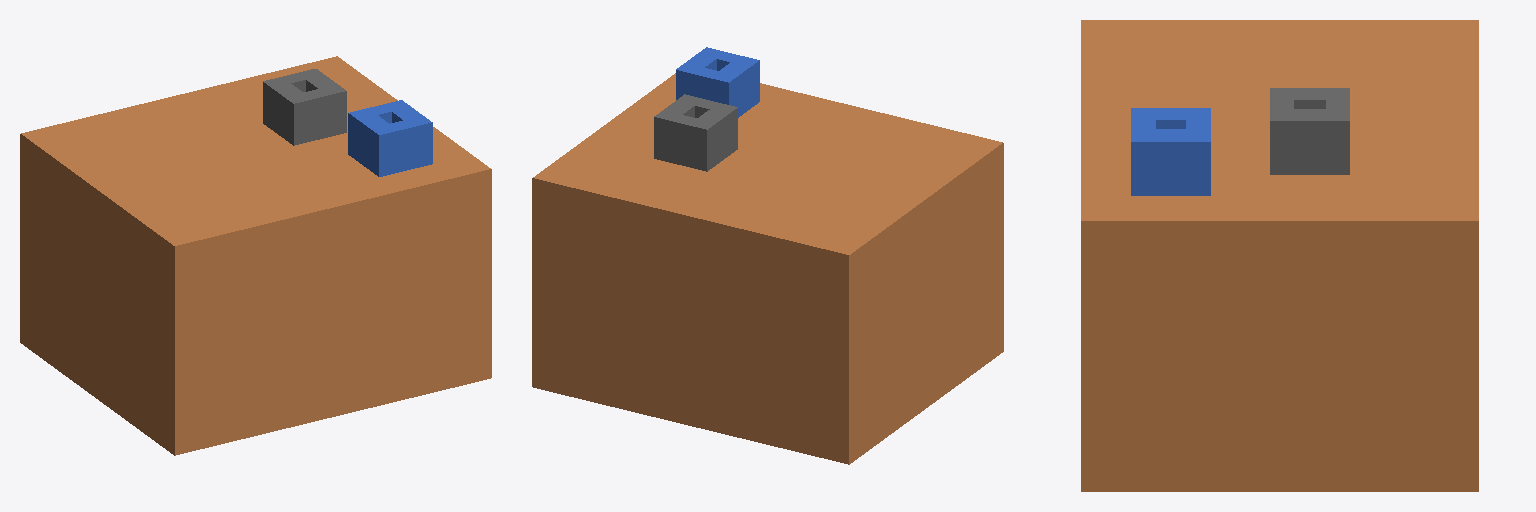
robot.urdf — peg_in_hole_fixtured_scene_0017_peg0012_tol02:
<?xml version="1.0"?>
<robot name="peg_in_hole_fixtured_scene_0017_peg0012_tol02">
  <material name="wood"><color rgba="0.82 0.56 0.35 1.0"/></material>
  <material name="start_fix"><color rgba="0.30 0.50 0.85 1.0"/></material>
  <material name="goal_fix"><color rgba="0.4706 0.4706 0.4706 1.0"/></material>
  <link name="box">
    <visual>
      <origin xyz="0.000000 0.000000 0.000000" rpy="0 0 0"/>
      <geometry><box size="0.475000 0.400000 0.300000"/></geometry>
      <material name="wood"/>
    </visual>
    <collision>
      <origin xyz="0.000000 0.000000 0.000000" rpy="0 0 0"/>
      <geometry><box size="0.475000 0.400000 0.300000"/></geometry>
    </collision>
    <visual>
      <origin xyz="0.138511 -0.109345 0.155000" rpy="0 0 0"/>
      <geometry><box size="0.080000 0.080000 0.010000"/></geometry>
      <material name="start_fix"/>
    </visual>
    <collision>
      <origin xyz="0.138511 -0.109345 0.155000" rpy="0 0 0"/>
      <geometry><box size="0.080000 0.080000 0.010000"/></geometry>
    </collision>
    <visual>
      <origin xyz="0.163761 -0.109345 0.185000" rpy="0 0 0"/>
      <geometry><box size="0.029500 0.080000 0.050000"/></geometry>
      <material name="start_fix"/>
    </visual>
    <collision>
      <origin xyz="0.163761 -0.109345 0.185000" rpy="0 0 0"/>
      <geometry><box size="0.029500 0.080000 0.050000"/></geometry>
    </collision>
    <visual>
      <origin xyz="0.113261 -0.109345 0.185000" rpy="0 0 0"/>
      <geometry><box size="0.029500 0.080000 0.050000"/></geometry>
      <material name="start_fix"/>
    </visual>
    <collision>
      <origin xyz="0.113261 -0.109345 0.185000" rpy="0 0 0"/>
      <geometry><box size="0.029500 0.080000 0.050000"/></geometry>
    </collision>
    <visual>
      <origin xyz="0.138511 -0.081595 0.185000" rpy="0 0 0"/>
      <geometry><box size="0.021000 0.024500 0.050000"/></geometry>
      <material name="start_fix"/>
    </visual>
    <collision>
      <origin xyz="0.138511 -0.081595 0.185000" rpy="0 0 0"/>
      <geometry><box size="0.021000 0.024500 0.050000"/></geometry>
    </collision>
    <visual>
      <origin xyz="0.138511 -0.137095 0.185000" rpy="0 0 0"/>
      <geometry><box size="0.021000 0.024500 0.050000"/></geometry>
      <material name="start_fix"/>
    </visual>
    <collision>
      <origin xyz="0.138511 -0.137095 0.185000" rpy="0 0 0"/>
      <geometry><box size="0.021000 0.024500 0.050000"/></geometry>
    </collision>
    <visual>
      <origin xyz="0.090509 0.030006 0.155000" rpy="0 0 0"/>
      <geometry><box size="0.080000 0.080000 0.010000"/></geometry>
      <material name="goal_fix"/>
    </visual>
    <collision>
      <origin xyz="0.090509 0.030006 0.155000" rpy="0 0 0"/>
      <geometry><box size="0.080000 0.080000 0.010000"/></geometry>
    </collision>
    <visual>
      <origin xyz="0.116114 0.030006 0.185000" rpy="0 0 0"/>
      <geometry><box size="0.028790 0.080000 0.050000"/></geometry>
      <material name="goal_fix"/>
    </visual>
    <collision>
      <origin xyz="0.116114 0.030006 0.185000" rpy="0 0 0"/>
      <geometry><box size="0.028790 0.080000 0.050000"/></geometry>
    </collision>
    <visual>
      <origin xyz="0.064904 0.030006 0.185000" rpy="0 0 0"/>
      <geometry><box size="0.028790 0.080000 0.050000"/></geometry>
      <material name="goal_fix"/>
    </visual>
    <collision>
      <origin xyz="0.064904 0.030006 0.185000" rpy="0 0 0"/>
      <geometry><box size="0.028790 0.080000 0.050000"/></geometry>
    </collision>
    <visual>
      <origin xyz="0.090509 0.058111 0.185000" rpy="0 0 0"/>
      <geometry><box size="0.022421 0.023790 0.050000"/></geometry>
      <material name="goal_fix"/>
    </visual>
    <collision>
      <origin xyz="0.090509 0.058111 0.185000" rpy="0 0 0"/>
      <geometry><box size="0.022421 0.023790 0.050000"/></geometry>
    </collision>
    <visual>
      <origin xyz="0.090509 0.001900 0.185000" rpy="0 0 0"/>
      <geometry><box size="0.022421 0.023790 0.050000"/></geometry>
      <material name="goal_fix"/>
    </visual>
    <collision>
      <origin xyz="0.090509 0.001900 0.185000" rpy="0 0 0"/>
      <geometry><box size="0.022421 0.023790 0.050000"/></geometry>
    </collision>
    <inertial>
      <mass value="500"/>
      <friction value="1.0"/>
      <inertia ixx="1000.0" ixy="0.0" ixz="0.0" iyy="1000.0" iyz="0.0" izz="1000.0"/>
    </inertial>
  </link>
</robot>

--- Render facts (derived) ---
The picture shows the robot from 3 angles, left to right: view 1: azimuth 30°, elevation 25°; view 2: azimuth 150°, elevation 25°; view 3: azimuth 270°, elevation 25°; orthographic projection.
Model peg_in_hole_fixtured_scene_0017_peg0012_tol02 with 1 links and 0 joints (none), rooted at box, posed every joint at zero.
Links seen in each view (by area): view 1: box; view 2: box; view 3: box.
Boxes of the visible links, x1=… form: box: x1=20, y1=56, x2=491, y2=455; box: x1=532, y1=47, x2=1003, y2=464; box: x1=1081, y1=20, x2=1478, y2=491.
Bounding box of the posed robot: 0.475 × 0.4 × 0.36 m (x, y, z).
Geometry: primitives only (box / cylinder / sphere), no mesh files.
